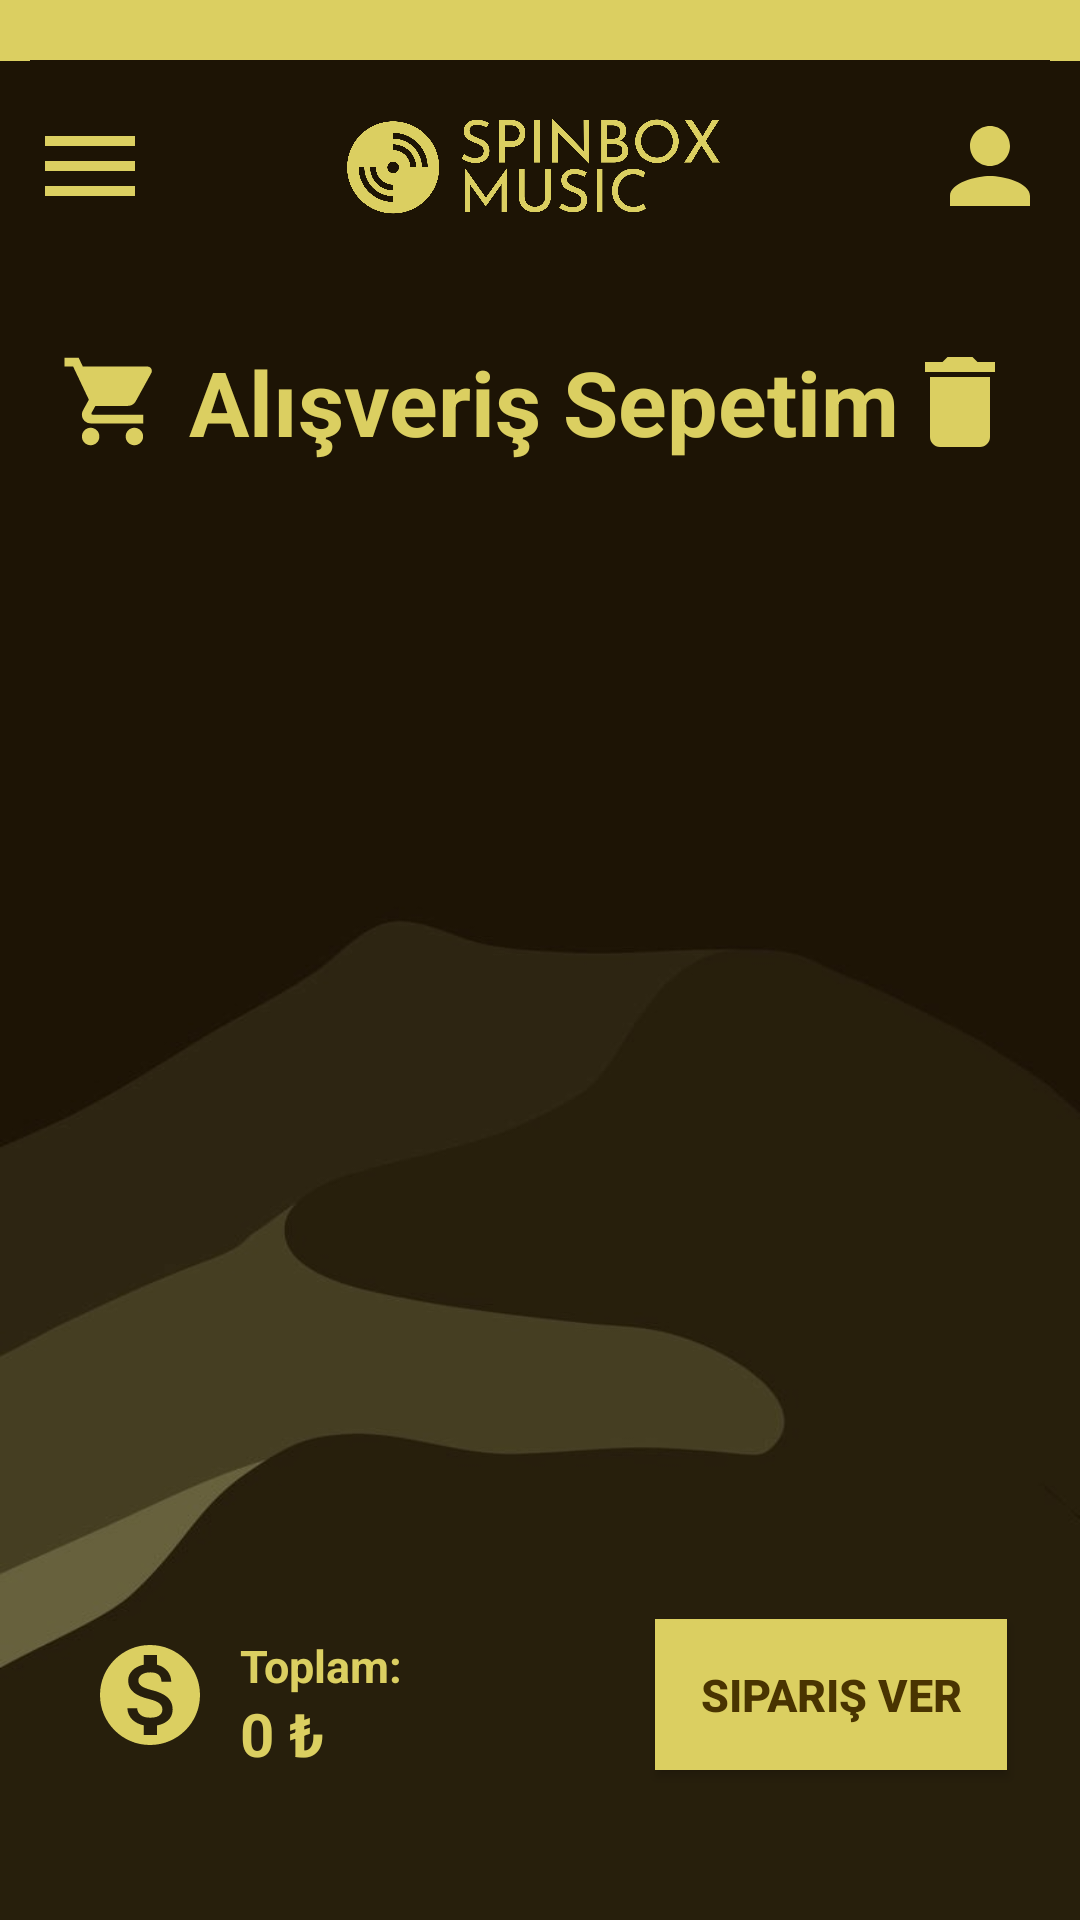

Named icons in this screenshot (1080w x 1920h) and their bounding boxes, (x1,y1,x2,y2):
menu: (45,136,135,196)
money: (100,1645,200,1745)
person: (950,126,1030,206)
shopping cart: (64,357,152,446)
